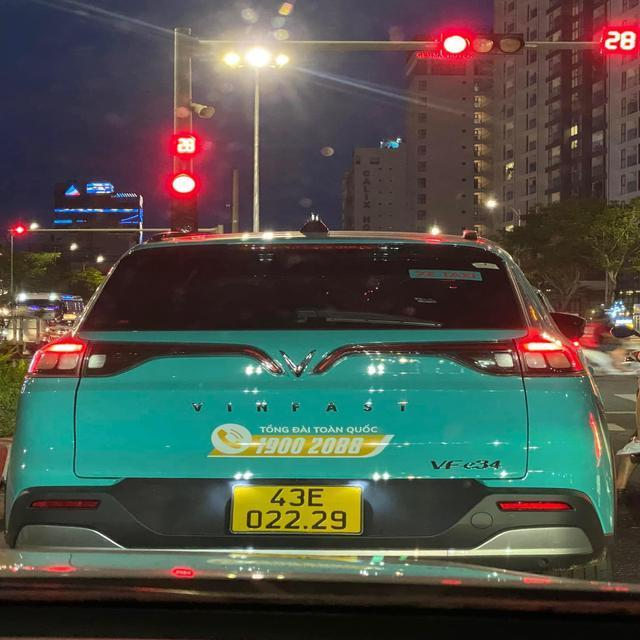car: (15, 226, 618, 552)
plate: (217, 478, 376, 542)
